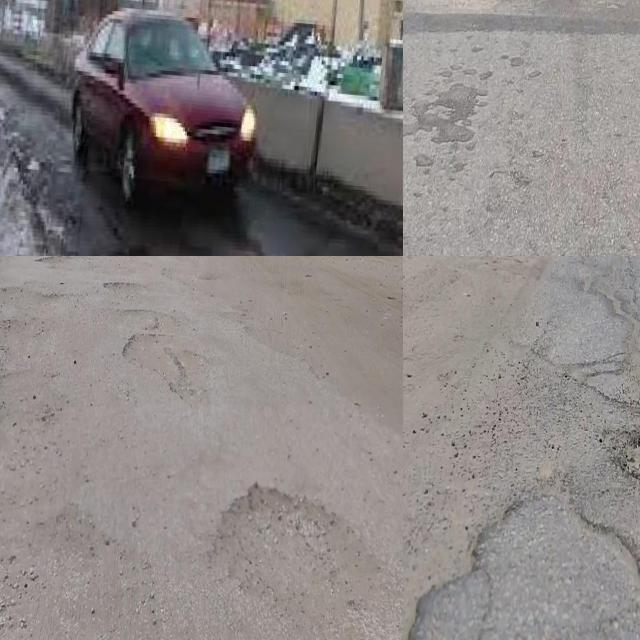Pothole: (208, 482, 379, 640), (120, 334, 182, 392), (609, 432, 640, 479), (27, 160, 40, 170), (0, 107, 4, 121)
